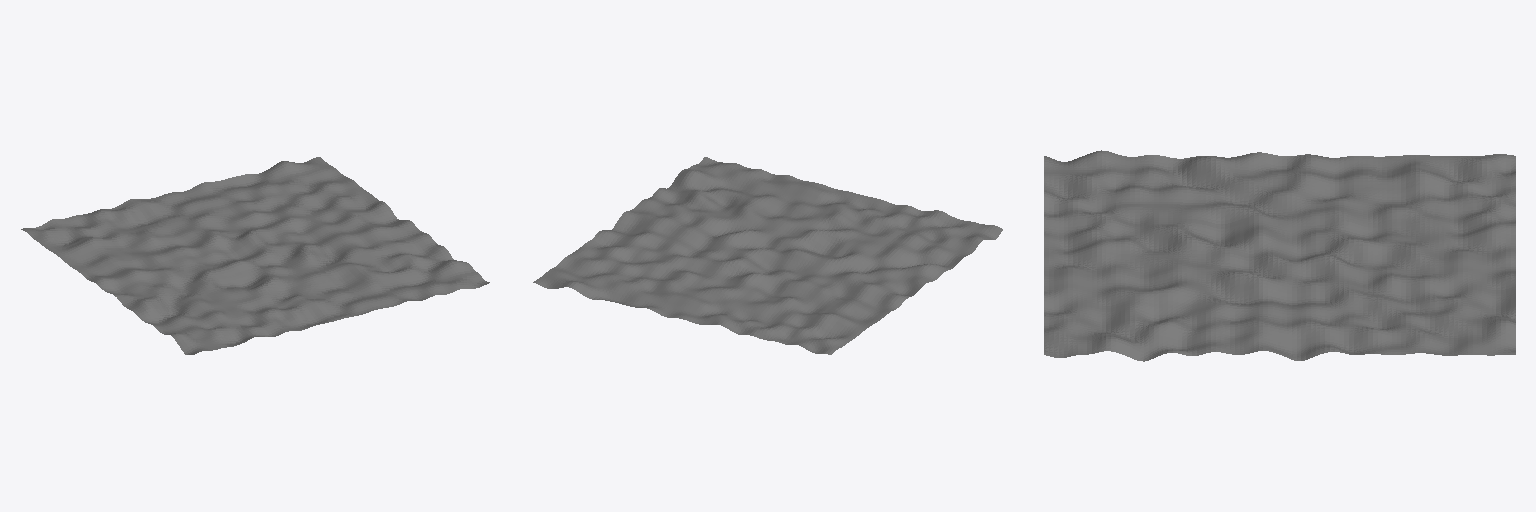
URDF robot description (perlin_terrain):
<?xml version="1.0" ?>
<robot name="perlin_terrain">
  
  <link name="base_link">
    <inertial>
      <origin rpy="0 0 0" xyz="0 0 0"/>
       <mass value="0.0"/>
       <inertia ixx="0.0" ixy="0.0" ixz="0.0" iyy="0.0" iyz="0.0" izz="0.0"/>
    </inertial>
    
    <collision concave="yes">
      <origin rpy="0 0 0" xyz="0 0 0"/>
      <geometry>
        <mesh filename="perlin_terrain_100x100.obj" />
      </geometry>
    </collision>
    
    <visual>
      <origin rpy="0 0 0" xyz="0 0 0"/>
      <geometry>
        <mesh filename="perlin_terrain_100x100.obj" />
      </geometry>
      <material name="grey">
        <color rgba="0.5 0.5 0.5 1"/>
      </material>
    </visual>
  
  </link>
  
</robot>

--- Render facts (derived) ---
3 views of the same robot in one strip: view 1: azimuth 30°, elevation 25°; view 2: azimuth 150°, elevation 25°; view 3: azimuth 270°, elevation 25° (orthographic).
Robot: perlin_terrain — 1 links, 0 joints (none); root link base_link; default pose: all joints at 0.
Links seen in each view (by area): view 1: base_link; view 2: base_link; view 3: base_link.
Link boxes in pixels (x1,y1,x2,y2): base_link: (21, 157, 489, 354); base_link: (533, 157, 1002, 354); base_link: (1044, 150, 1515, 361).
Bounding box of the posed robot: 100 × 100 × 3.95 m (x, y, z).
1 mesh visuals loaded from 1 distinct referenced files (1 OBJ).
